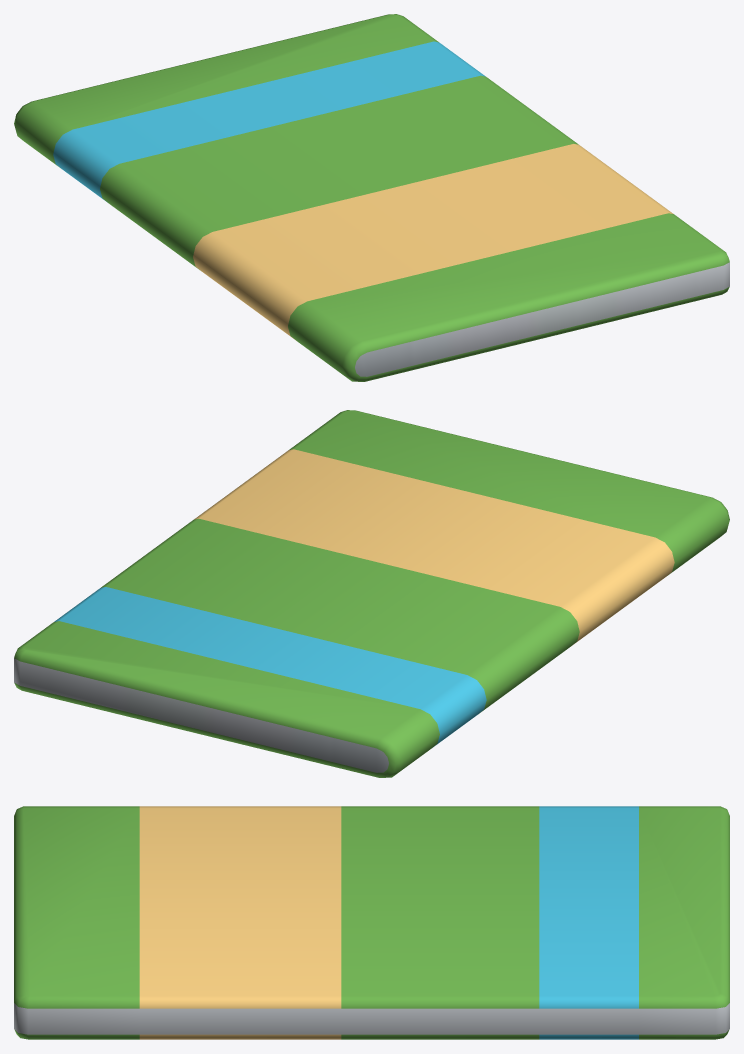
File: Magazine_02.glb
The picture shows the model from 3 angles, top to bottom: view 1: azimuth 30°, elevation 25°; view 2: azimuth 150°, elevation 25°; view 3: azimuth 270°, elevation 25°; orthographic projection. The views are drawn at different scales.
Visible parts, largest first — view 1: Magazine_02; view 2: Magazine_02; view 3: Magazine_02.
Boxes of the visible parts, x1=… form: Magazine_02: x1=14, y1=14, x2=729, y2=381; Magazine_02: x1=14, y1=410, x2=729, y2=777; Magazine_02: x1=14, y1=806, x2=729, y2=1039.
Bounding box in the file's own units: 0.2 × 0.02 × 0.3.
Materials: 1 (1 with a texture image).
